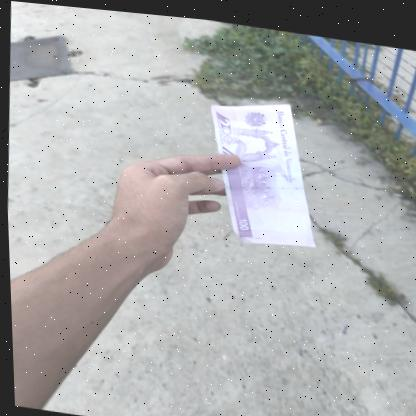vef_back: (201, 86, 322, 250)
